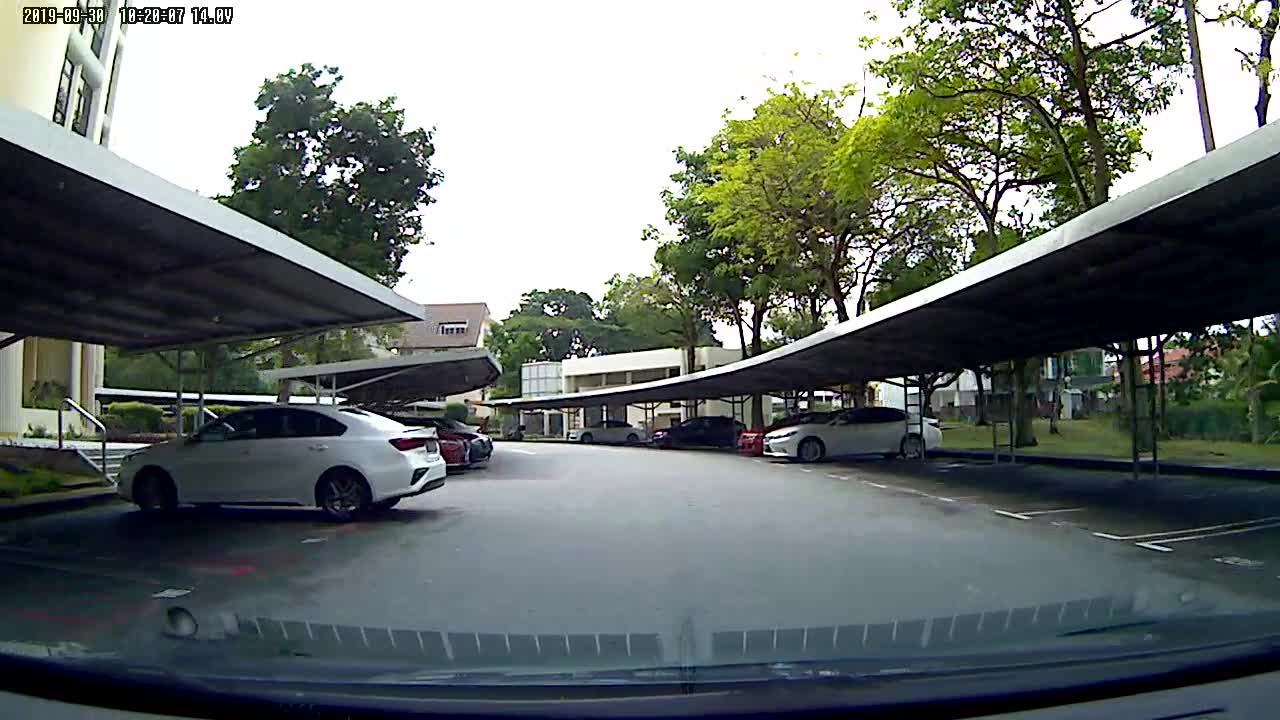car: (109, 399, 448, 524), (769, 405, 943, 473), (435, 405, 499, 477), (650, 417, 743, 448), (561, 418, 647, 443)
